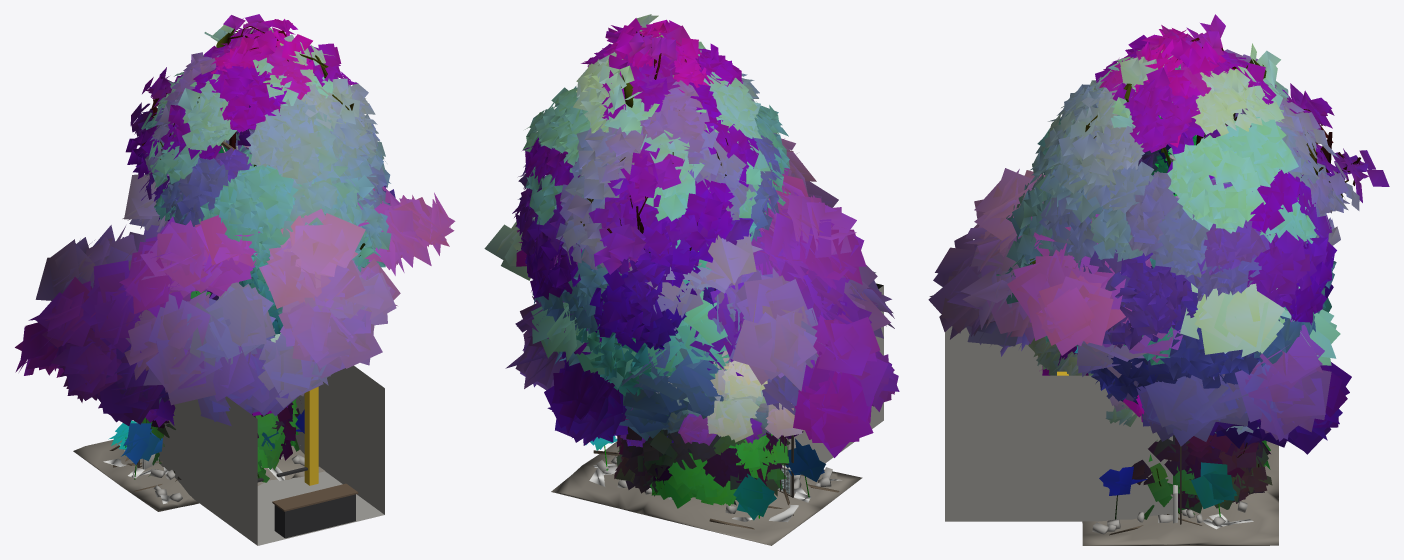
File: witte_kit.glb
The picture shows the model from 3 angles, left to right: view 1: azimuth 30°, elevation 25°; view 2: azimuth 150°, elevation 25°; view 3: azimuth 270°, elevation 25°; orthographic projection. The views are drawn at different scales.
Parts seen in each view (by area): view 1: SM_FXTree_Volunteer, SM_FXTree_Pear, SM_R_BayInterior_Service, SM_S_RubblePile_Block, SM_FXTree_SpruceFir_Green, SM_FXTree_Cherry; view 2: SM_FXTree_Pear, SM_FXTree_Volunteer, SM_S_RubblePile_Block, SM_FXTree_SpruceFir_Green, SM_FXTree_Cherry, SM_FXTree_PlumPurple, SM_R_BayInterior_Service; view 3: SM_FXTree_Pear, SM_FXTree_Volunteer, SM_R_BayInterior_Service, SM_S_RubblePile_Block, SM_FXTree_SpruceFir_Green, SM_FXTree_Cherry, SM_FXTree_PlumPurple.
Boxes of the visible parts, x1,y1,x2,y2 form: SM_FXTree_Volunteer: (15,145,455,479); SM_FXTree_Pear: (125,14,395,336); SM_R_BayInterior_Service: (159,365,384,545); SM_S_RubblePile_Block: (73,439,324,511); SM_FXTree_SpruceFir_Green: (141,144,300,482); SM_FXTree_Cherry: (145,328,287,427); SM_FXTree_Pear: (512,14,790,396); SM_FXTree_Volunteer: (484,133,899,520); SM_S_RubblePile_Block: (551,441,862,545); SM_FXTree_SpruceFir_Green: (614,426,790,508); SM_FXTree_Cherry: (656,350,803,442); SM_FXTree_PlumPurple: (620,408,768,447); SM_R_BayInterior_Service: (781,283,883,464); SM_FXTree_Pear: (996,14,1389,404); SM_FXTree_Volunteer: (928,168,1351,519); SM_R_BayInterior_Service: (945,326,1172,521); SM_S_RubblePile_Block: (1082,441,1278,545); SM_FXTree_SpruceFir_Green: (1131,135,1272,519); SM_FXTree_Cherry: (1028,337,1144,421); SM_FXTree_PlumPurple: (1105,395,1263,449).
Size of the model in its own units: 12.38 by 14.72 by 11.75.
